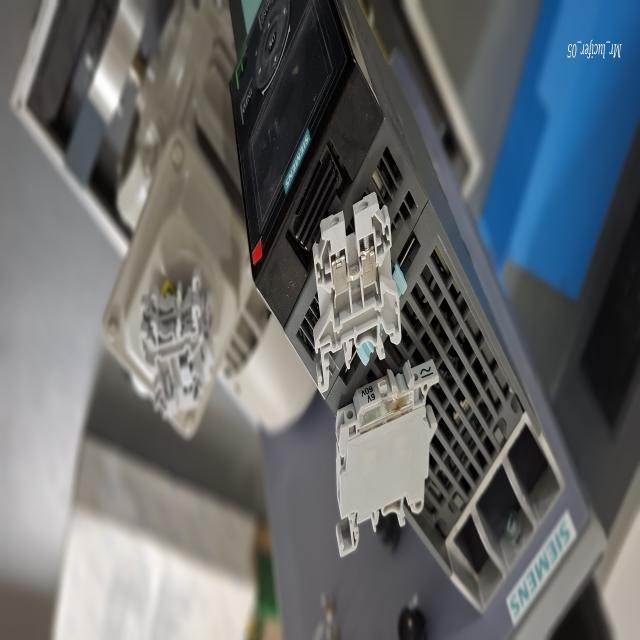Pass: (308, 191, 407, 403)
Reject: (138, 314, 210, 426)
